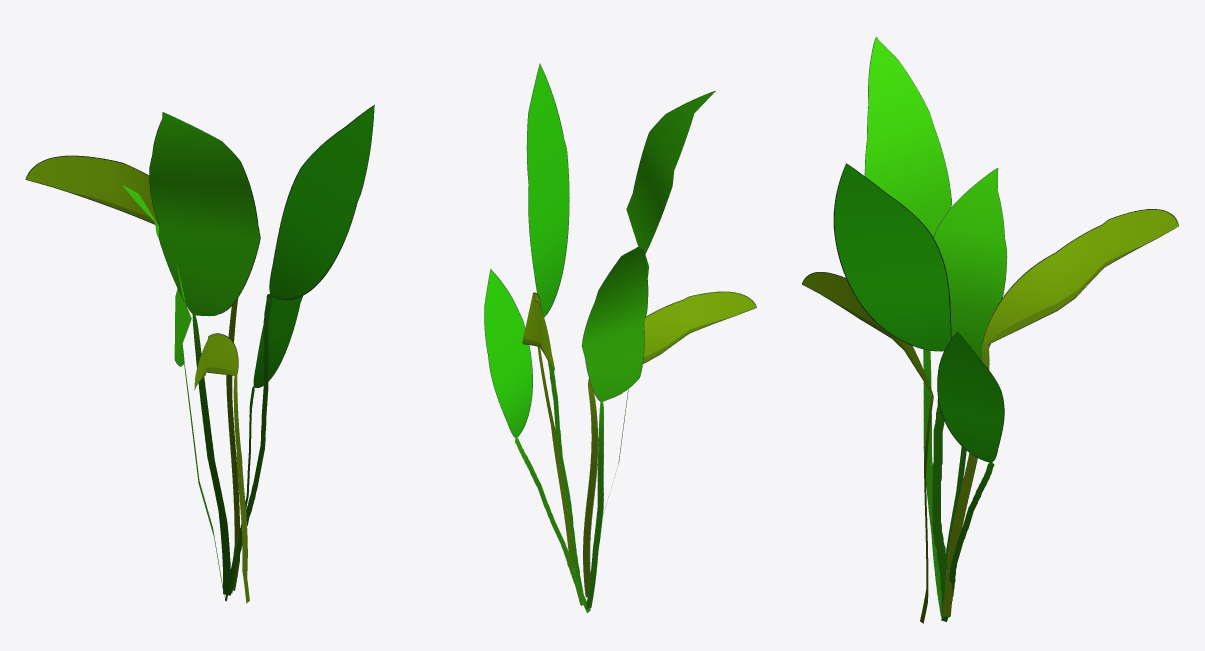
The model's file is Grass1.fbx.
3 renders of one model, left to right at view 1: azimuth 30°, elevation 25°; view 2: azimuth 150°, elevation 25°; view 3: azimuth 270°, elevation 25°, orthographic. The views are drawn at different scales.
Visible parts, largest first — view 1: grass.001, grass, grass.002, grass.005, grass.004, grass.003; view 2: grass, grass.003, grass.004, grass.005, grass.001, grass.002; view 3: grass, grass.001, grass.002, grass.003, grass.004, grass.005.
Part boxes in pixels (<box>): grass.001: <box>149,112,260,595</box>; grass: <box>231,104,374,593</box>; grass.002: <box>25,155,240,590</box>; grass.005: <box>194,333,249,603</box>; grass.004: <box>225,296,302,601</box>; grass.003: <box>121,184,224,596</box>; grass: <box>526,63,583,605</box>; grass.003: <box>581,247,648,609</box>; grass.004: <box>484,269,590,612</box>; grass.005: <box>583,291,756,597</box>; grass.001: <box>602,91,715,516</box>; grass.002: <box>522,292,580,604</box>; grass: <box>833,162,951,616</box>; grass.001: <box>864,37,951,617</box>; grass.002: <box>942,209,1178,616</box>; grass.003: <box>933,168,1007,617</box>; grass.004: <box>937,331,1004,621</box>; grass.005: <box>802,272,933,623</box>.
Size of the model in its own units: 45 by 94.67 by 61.83.
